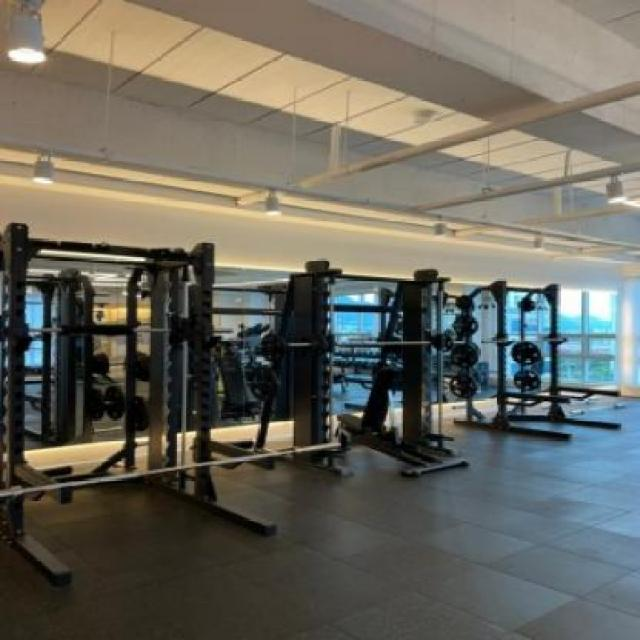smith machine: (0, 223, 278, 581), (280, 257, 454, 480), (457, 280, 625, 443)
